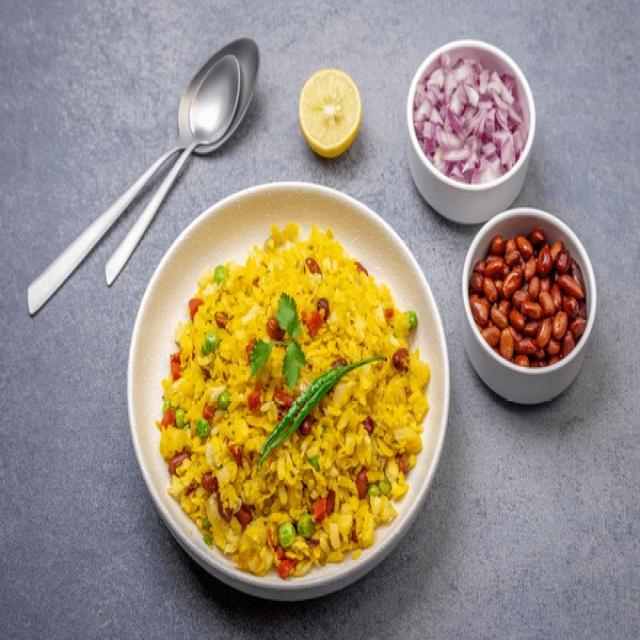POHA: (158, 224, 427, 573)
